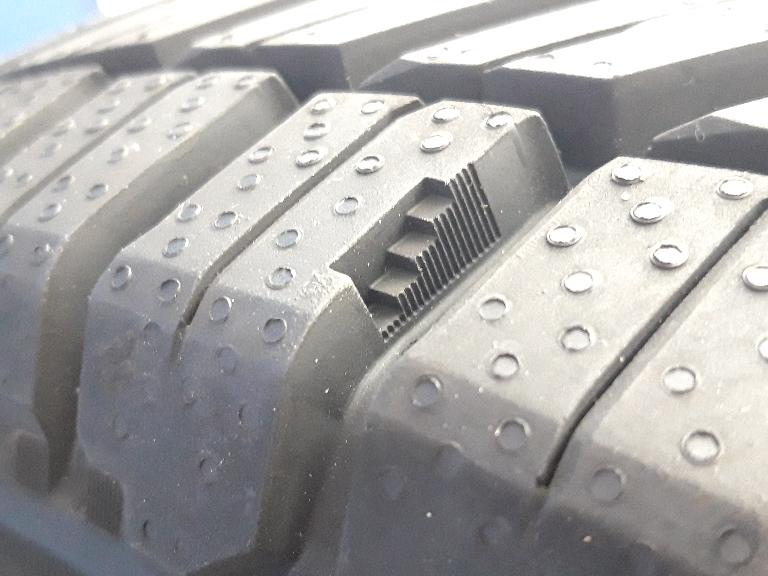temoin:100: (316, 154, 513, 355)
